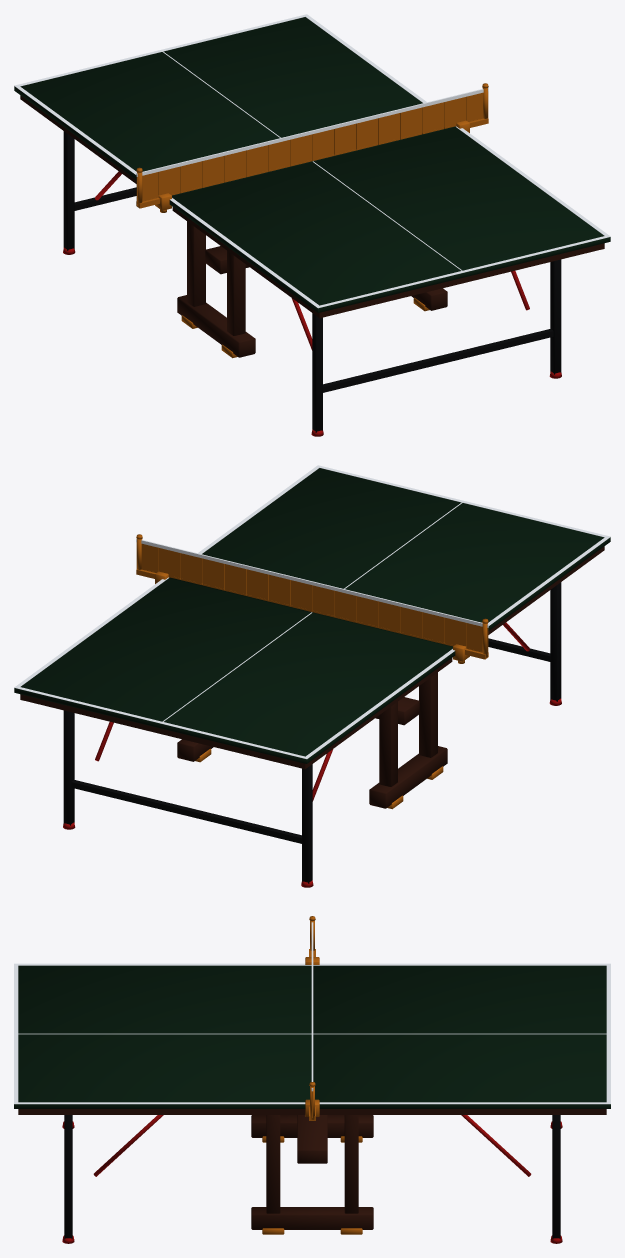
The model's file is cozy_tt_table_outdoor_garden.obj.
The picture shows the model from 3 angles, top to bottom: view 1: azimuth 30°, elevation 25°; view 2: azimuth 150°, elevation 25°; view 3: azimuth 270°, elevation 25°; orthographic projection.
Parts seen in each view (by area): view 1: cozy_tt_table_outdoor_garden_Mesh; view 2: cozy_tt_table_outdoor_garden_Mesh; view 3: cozy_tt_table_outdoor_garden_Mesh.
Part boxes in pixels (x1,y1,x2,y2): cozy_tt_table_outdoor_garden_Mesh: (14, 14, 610, 436); cozy_tt_table_outdoor_garden_Mesh: (14, 465, 610, 887); cozy_tt_table_outdoor_garden_Mesh: (14, 916, 610, 1243).
Size of the model in its own units: 1.83 by 0.9325 by 2.74.
